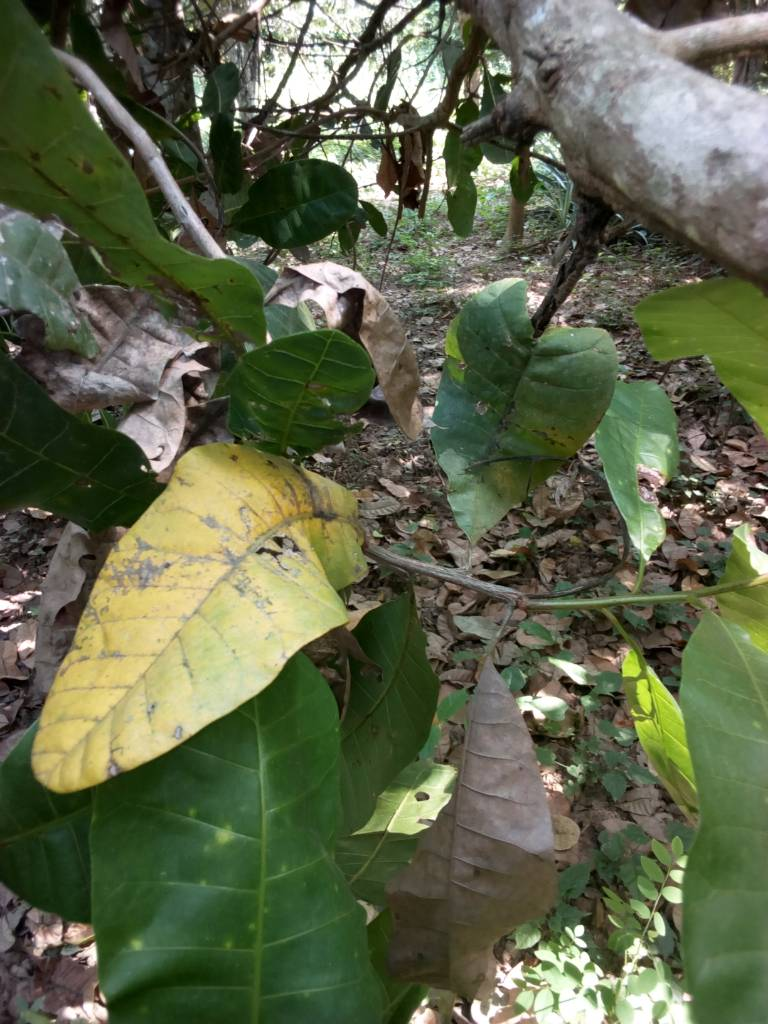Anthracnose: (19, 419, 385, 799), (1, 25, 269, 353), (425, 280, 622, 533)
